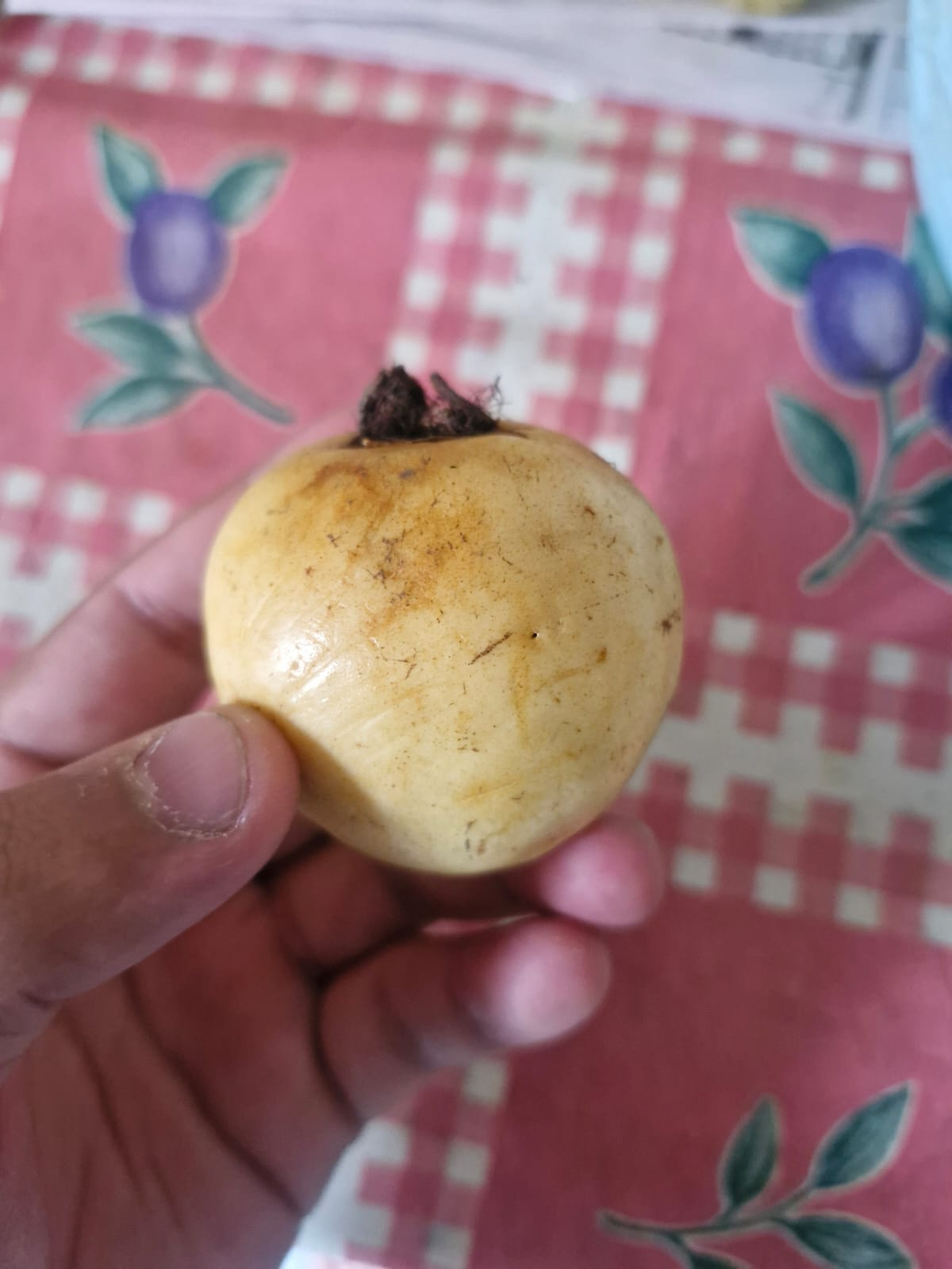guava: (169, 210, 903, 1269)
